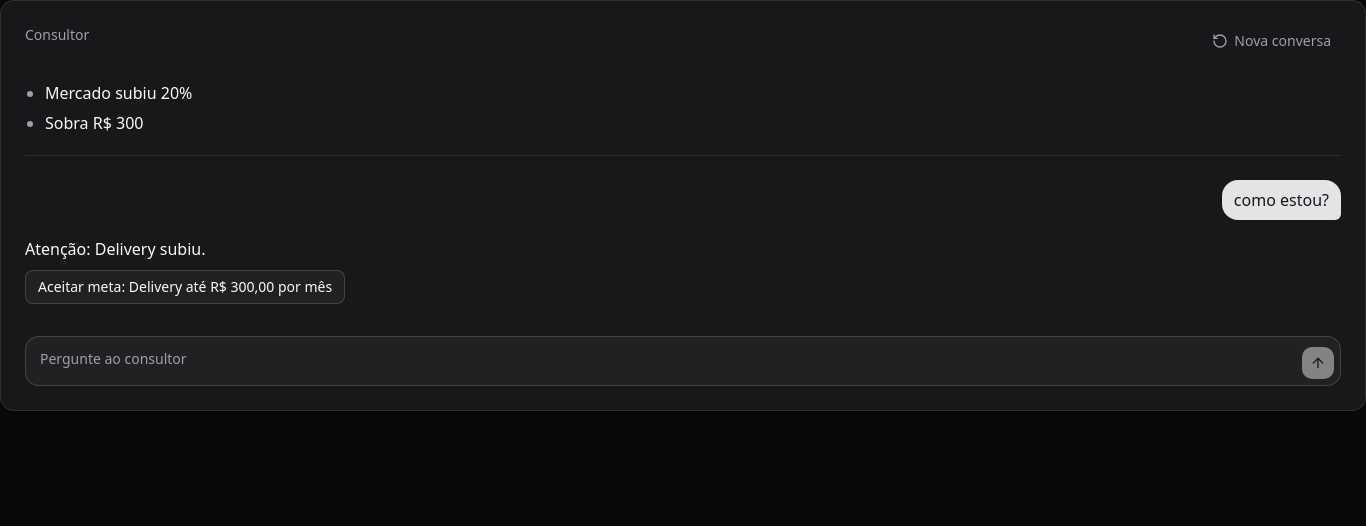
AdvisorCard › pergunta, limpa o campo e acrescenta pergunta e resposta à conversa
Step 1. Type "e o que corto?" into the text box labelled "Pergunte ao consultor" → (663, 361), box left=32, top=343, right=1294, bottom=379
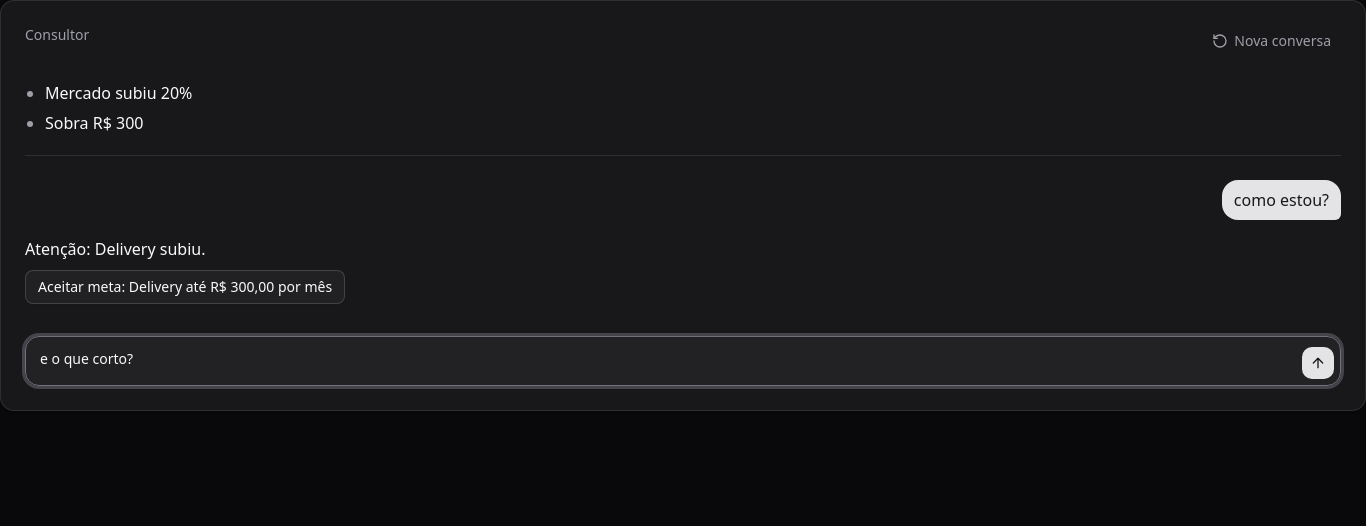
Step 2. Click the button named "Enviar" → (1318, 363), box left=1302, top=347, right=1334, bottom=379
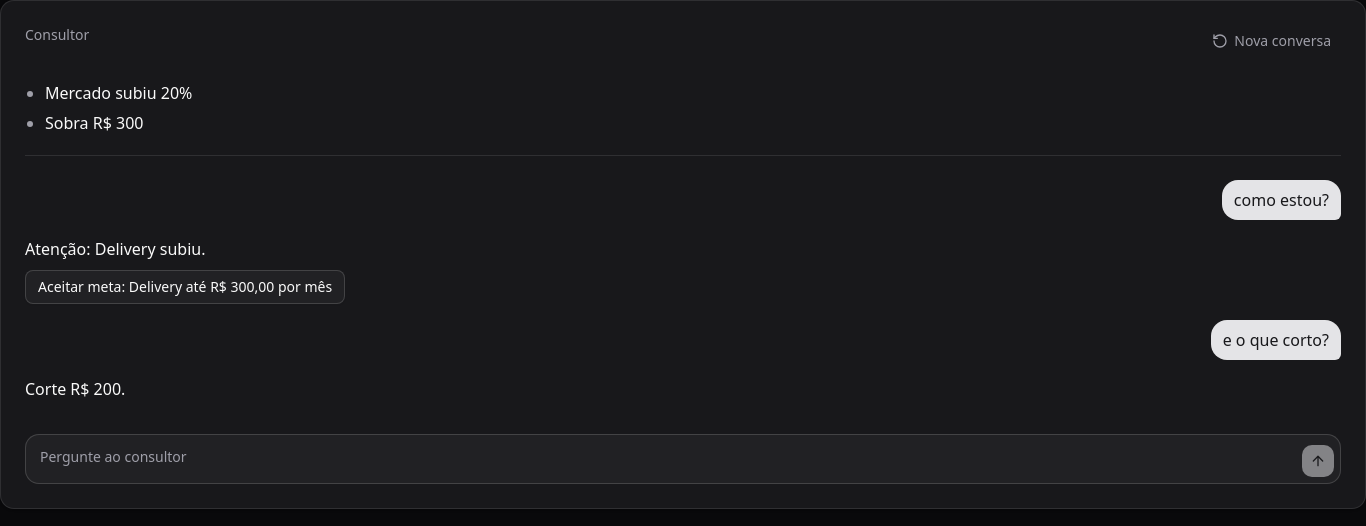
expect the text "Corte R$ 200." is shown: met, box left=25, top=376, right=125, bottom=402
expect the text "e o que corto?" is shown: met, box left=1211, top=320, right=1341, bottom=360
expect the text box labelled "Pergunte ao consultor" is empty: met, box left=32, top=441, right=1294, bottom=477
